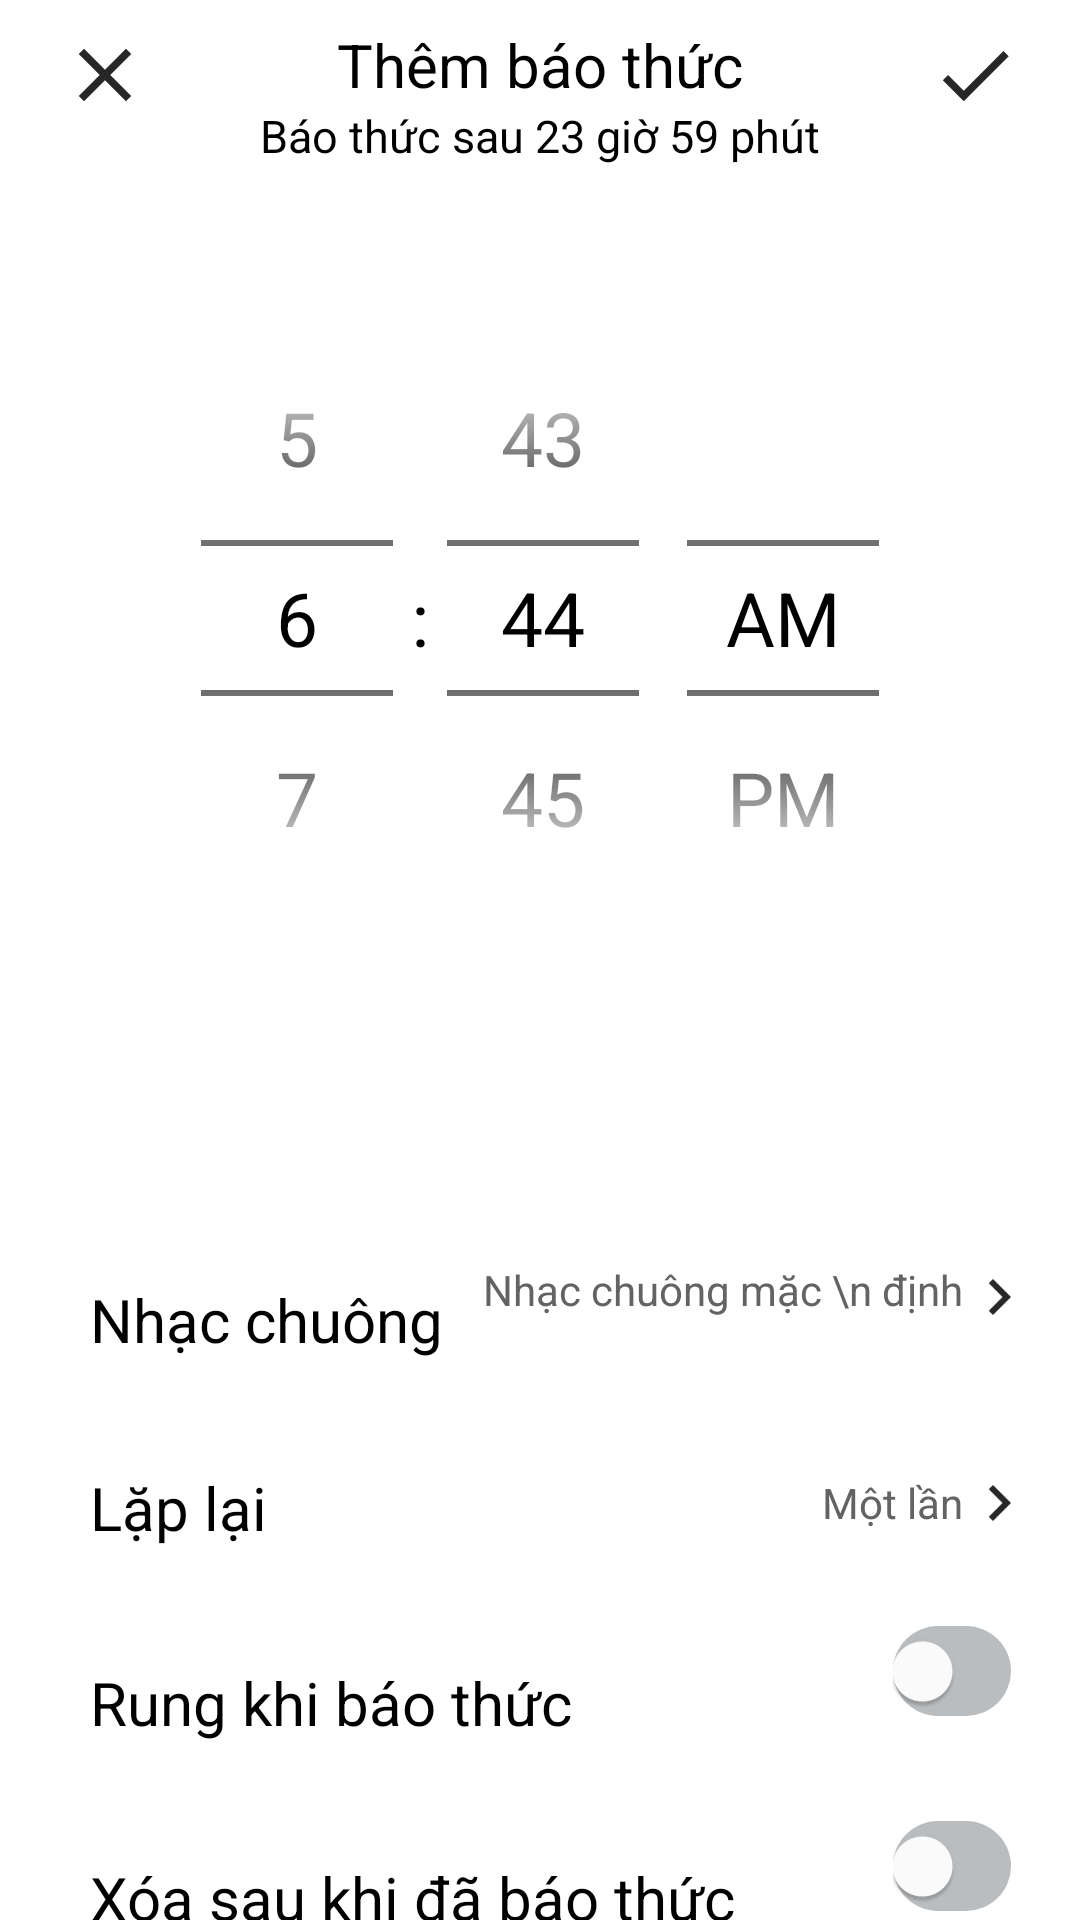

Locate icon controls on the screen. Image size 1080px×1920px, boxes as [x1,y1,x2,y2].
check: [943,51,1009,101]
close: [79,49,131,101]
